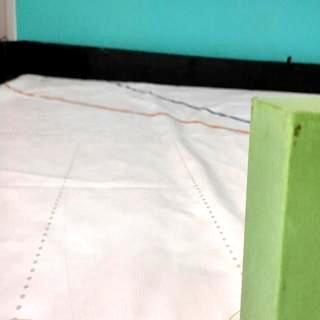greenbox: (239, 92, 320, 320)
